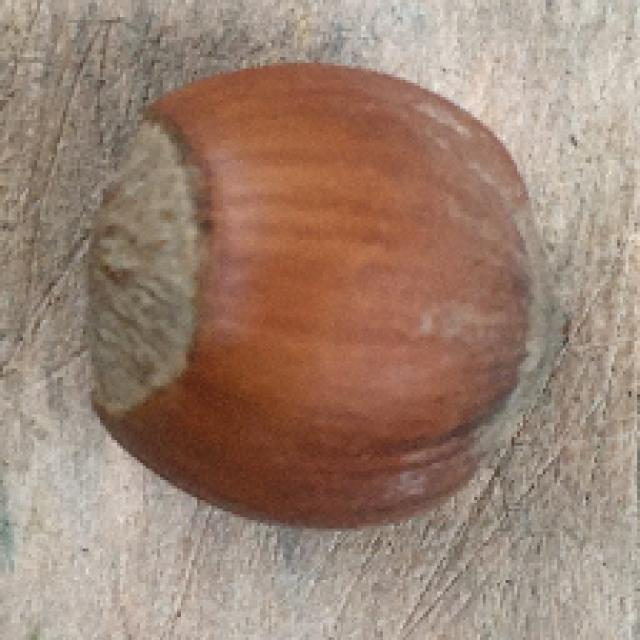damagedHazelnut: (85, 60, 558, 529)
